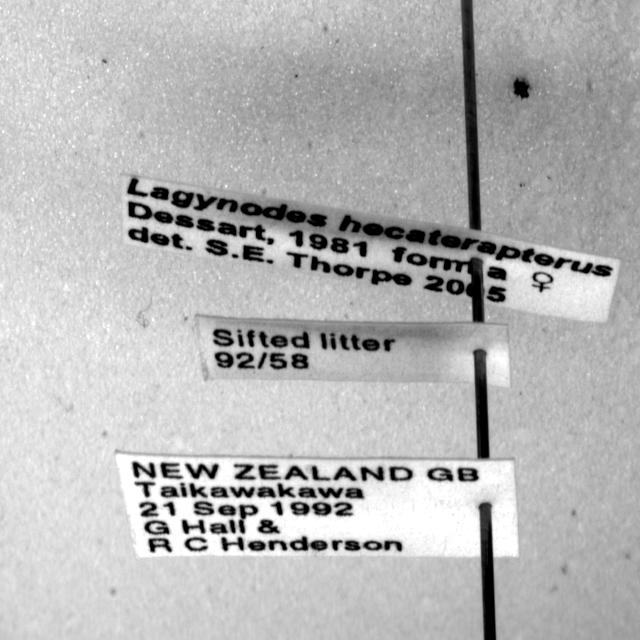typed_label: (122, 174, 620, 322), (116, 452, 519, 557), (196, 315, 510, 388)
